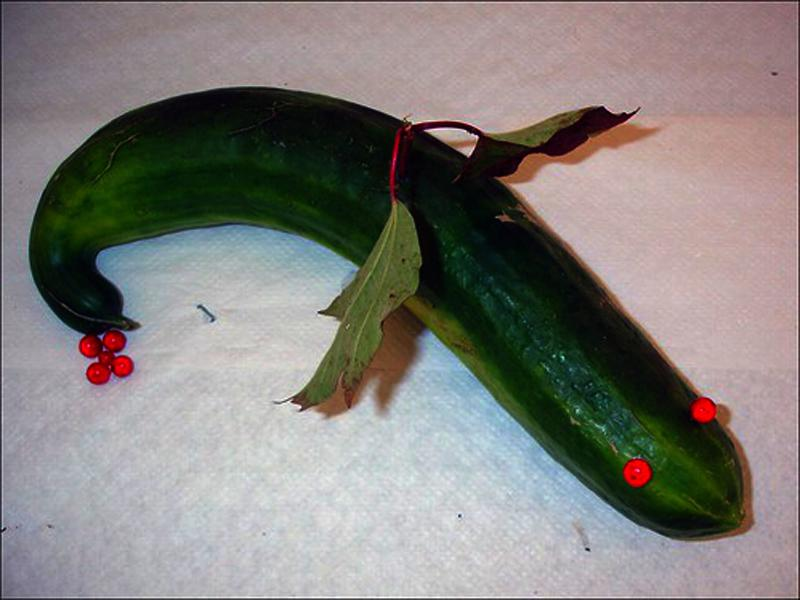Cucumber: (29, 87, 744, 537)
